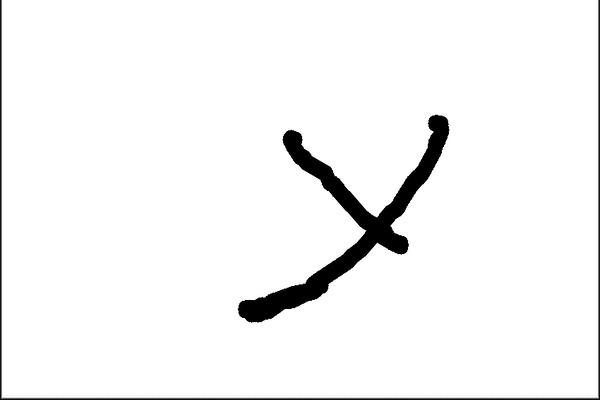Y: (221, 107, 454, 334)
